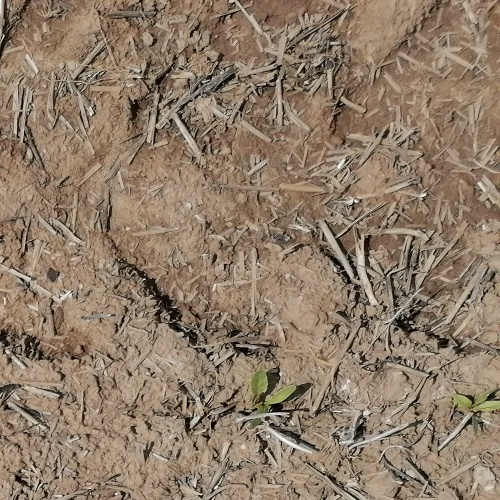beet: (248, 369, 296, 423), (451, 396, 500, 421)
